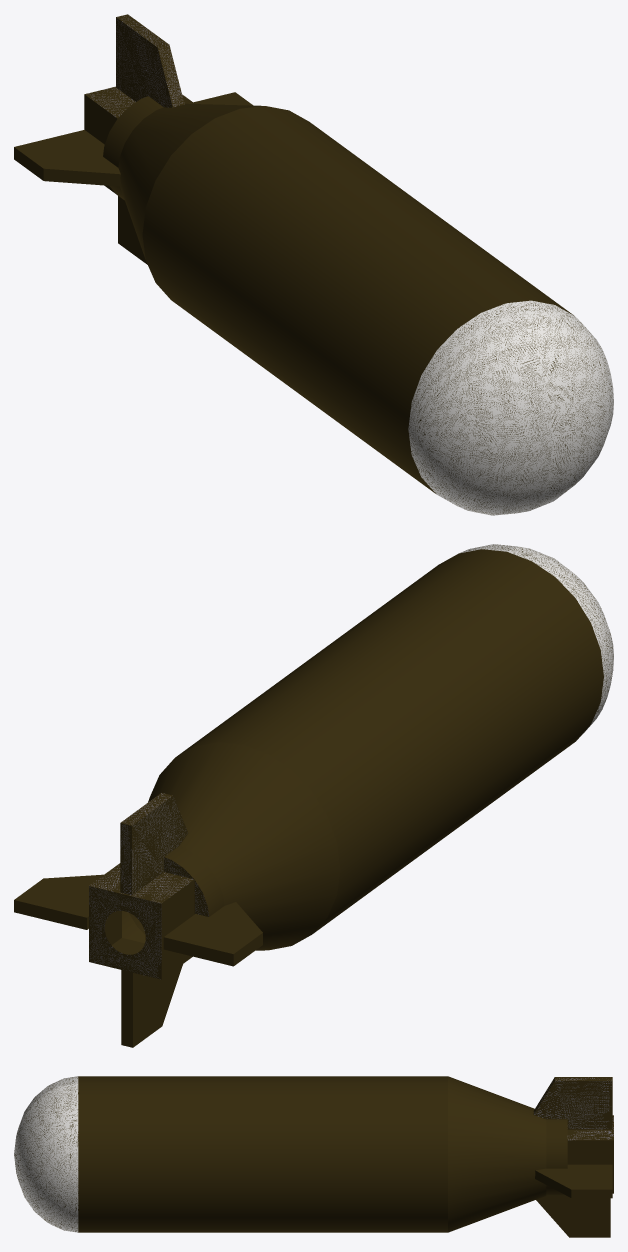
File: torpido.dae
The picture shows the model from 3 angles, top to bottom: view 1: azimuth 30°, elevation 25°; view 2: azimuth 150°, elevation 25°; view 3: azimuth 270°, elevation 25°; orthographic projection. The views are drawn at different scales.
Visible parts, largest first — view 1: group_0 (×2), SketchUp (×2), group_1 (×3), Component_2 (×2); view 2: group_0, group_1 (×3), Component_2 (×3), SketchUp; view 3: group_0 (×2), group_1 (×3), Component_2 (×2), SketchUp (×2).
Part boxes in pixels (<box>): group_0 (×2): <box>118,103,613,510</box>; SketchUp (×2): <box>116,14,552,515</box>; group_1 (×3): <box>84,17,194,200</box>; Component_2 (×2): <box>14,130,147,264</box>; group_0: <box>129,549,603,950</box>; group_1 (×3): <box>89,796,224,979</box>; Component_2 (×3): <box>14,874,262,1047</box>; SketchUp: <box>507,546,613,740</box>; group_0 (×2): <box>14,1076,546,1232</box>; group_1 (×3): <box>534,1081,613,1195</box>; Component_2 (×2): <box>535,1164,612,1237</box>; SketchUp (×2): <box>17,1076,612,1132</box>.
Size of the model in its own units: 37.35 by 126 by 36.32.
